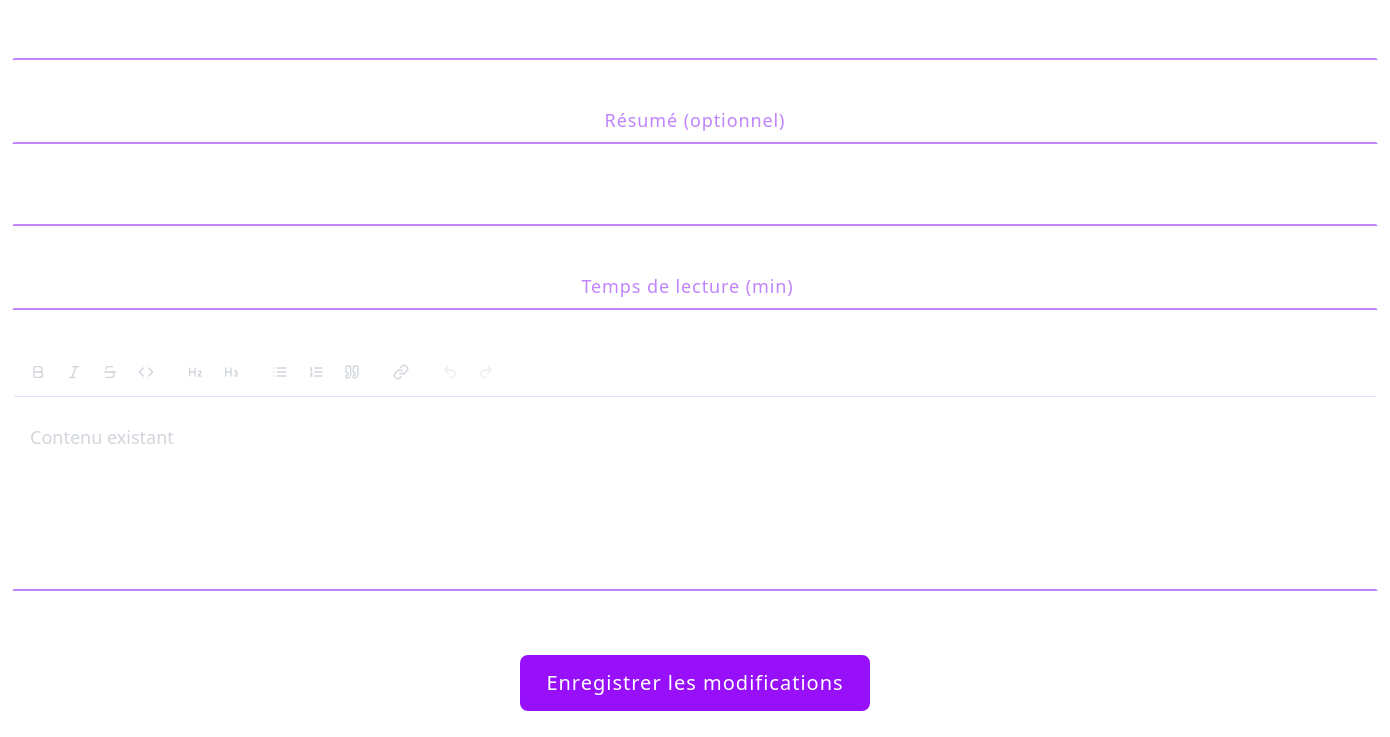
Test: ArticleForm — édition › affiche un message d'erreur si la mise à jour échoue
Click the button "Enregistrer les modifications".
click(695, 683)  # box top-left (520, 655), bottom-right (870, 711)
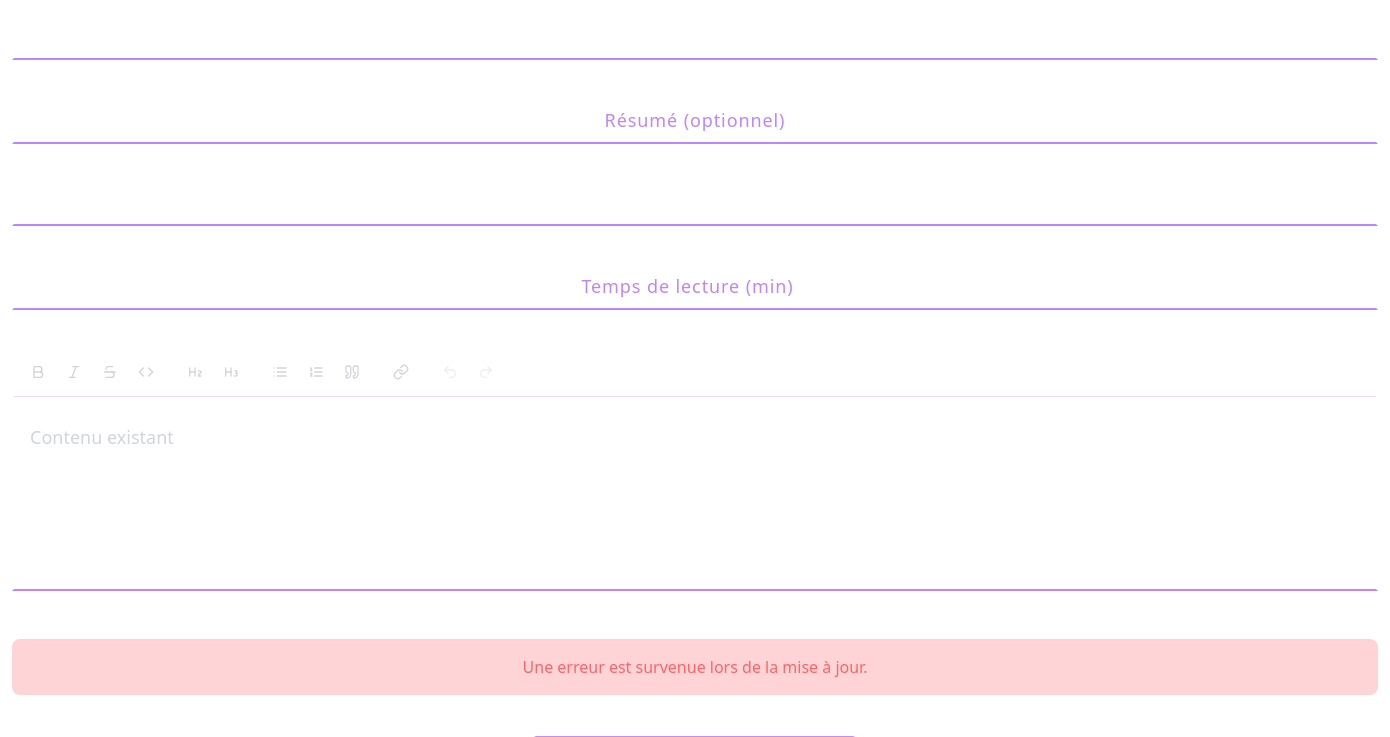
Check: the text "Une erreur est survenue lors de la mise à jour." is shown, box top-left (12, 639), bottom-right (1378, 695)
